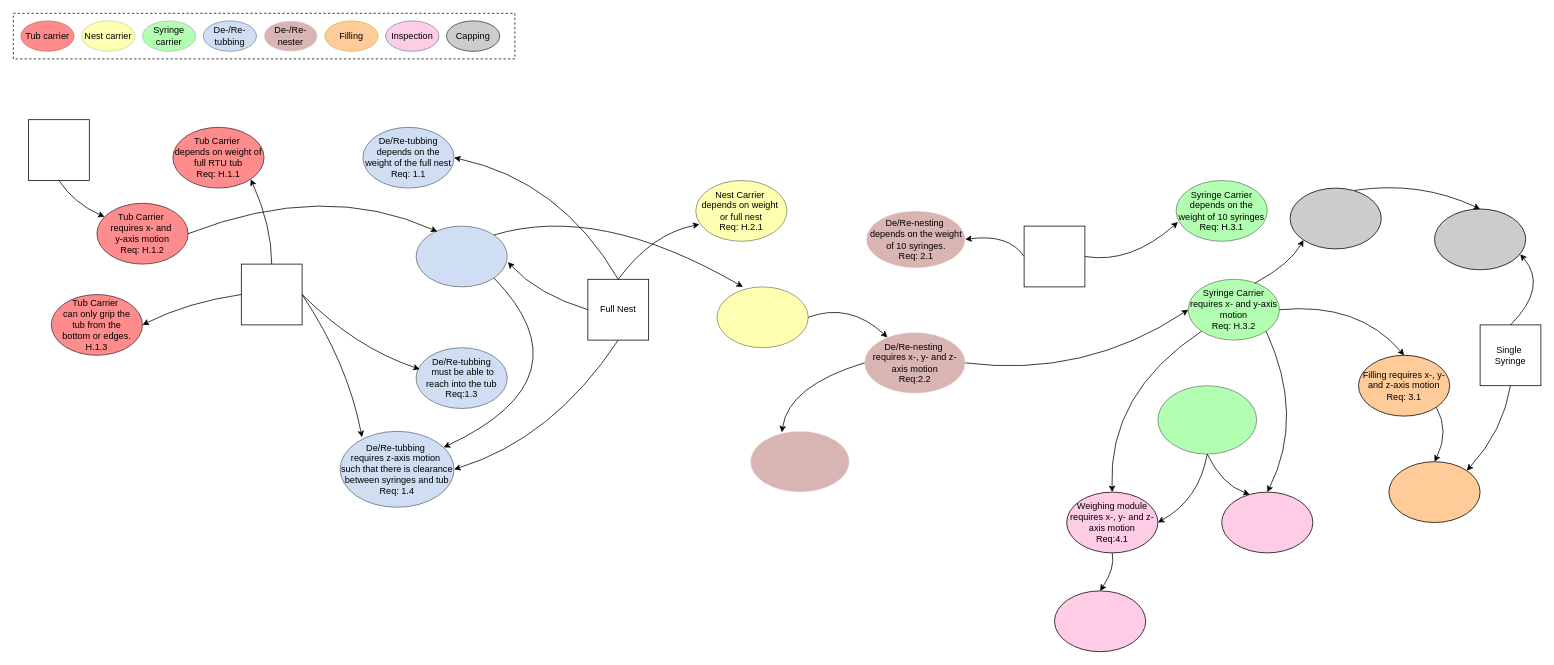
The diagram is 1554 pixels wide and 665 high, and some of its shapes have lost their labels. Here are the shapes that lost their labels. From the top down, the centre of each, then its label:
At (x=58, y=149): "In-Feed".
At (x=1335, y=218): "Capping requires, z-axis motion Req: 6.1".
At (x=461, y=256): "De/Re-tubbing requires x-, y-, and z-axis motion Req: 1.2".
At (x=1054, y=256): "Line of 10 Syringes".
At (x=1480, y=239): "Capping requires 40 mm of z-axis motion Req: 6.2".
At (x=271, y=294): "Full RTU Container".
At (x=762, y=317): "Nest Carrier requires x- and y-axis motion Req: H.2.2".
At (x=1207, y=419): "Syringes must be accessible to other processes within the carrier Req: H.3.3".
At (x=799, y=461): "De/Re-nesting requires at least 82 mm of z-axis motion Req: H.2.3".
At (x=1434, y=491): "Filling requires at least 82 mm of z-axis motion Req: 3.2".
At (x=1267, y=522): "Visual Inspection requires x- and y-axis motion Req: 5.1".
At (x=1100, y=621): "Weighing requires 3 mm of z-axis motion Req: 4.2".
